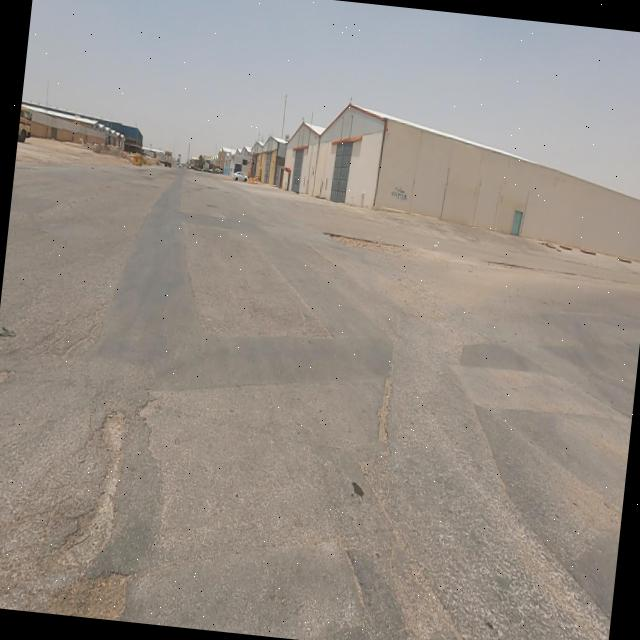Graffiti: (391, 186, 409, 203)
